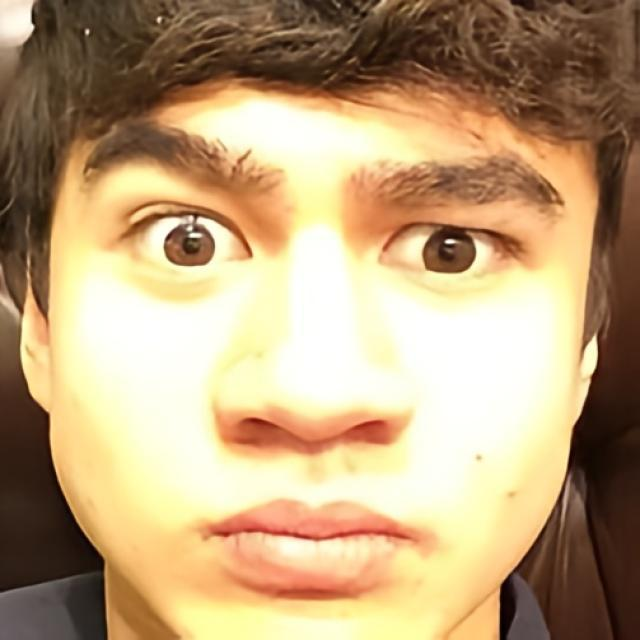fear: (49, 49, 602, 638)
